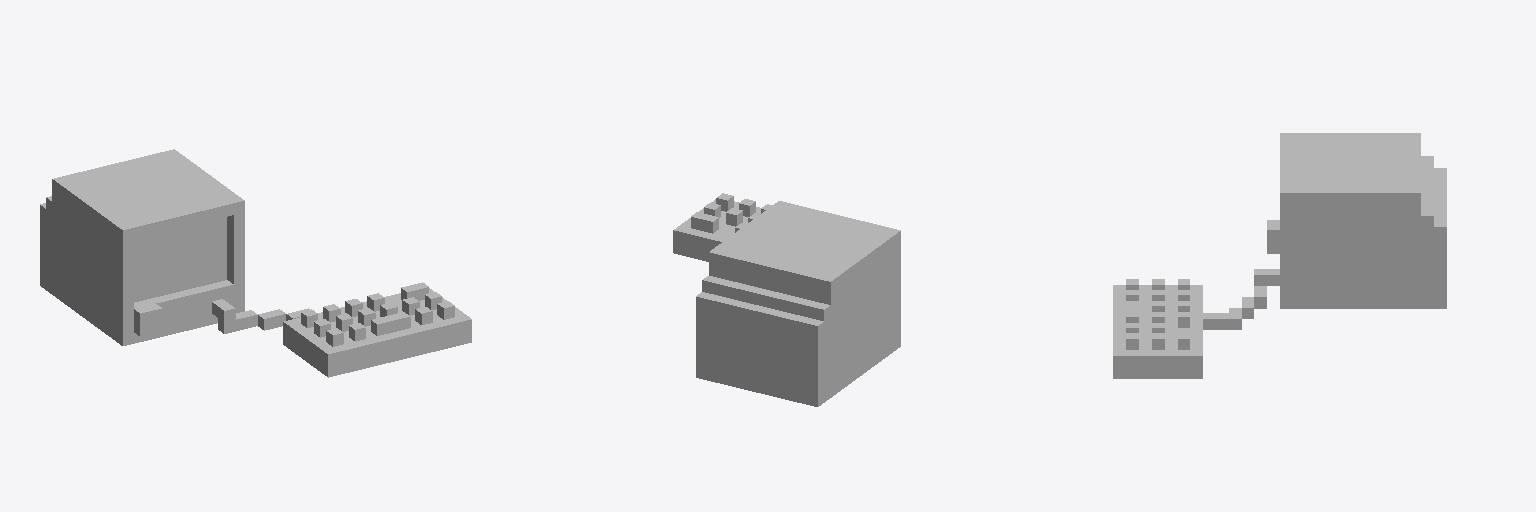
File: computer.obj
3 views of the same model, side by side, from view 1: azimuth 30°, elevation 25°; view 2: azimuth 150°, elevation 25°; view 3: azimuth 270°, elevation 25° (orthographic).
Parts seen in each view (by area): view 1: computer; view 2: computer; view 3: computer.
Part boxes in pixels (x1,y1,x2,y2): computer: (40,149,471,377); computer: (673,193,900,406); computer: (1113,133,1446,378).
Size of the model in its own units: 24 by 10 by 26.